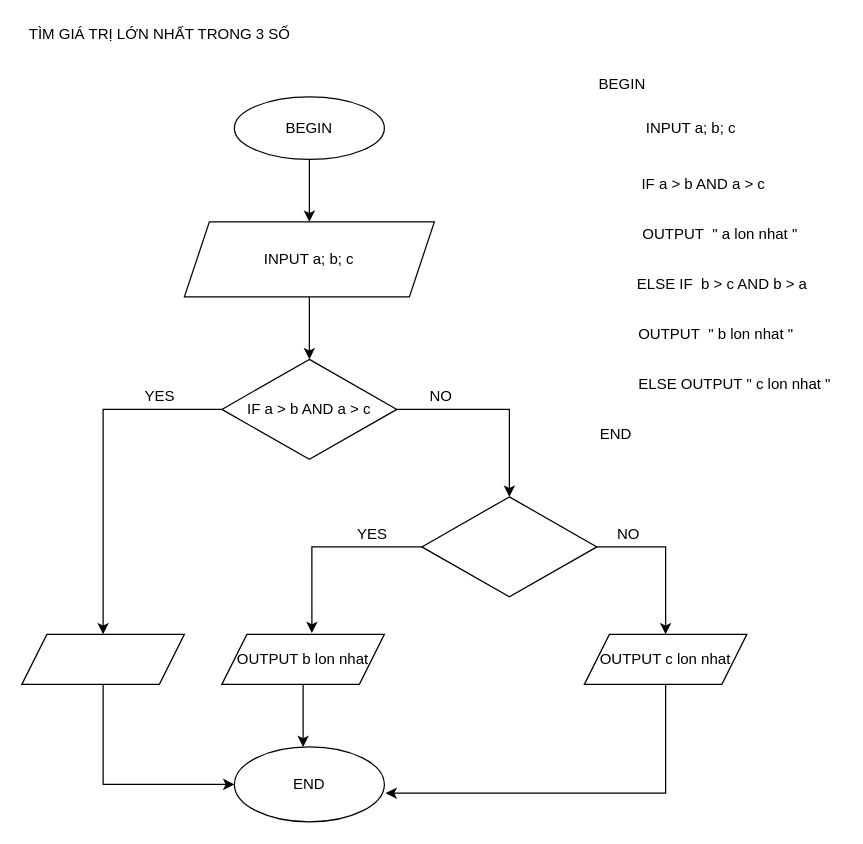
This 863x844 diagram has some shape labels left out. The centre of each missing label's shape, as x and y in pixels:
"IF b > c AND b > a" goes at (x=509, y=546).
"OUTPUT a lon nhat" goes at (x=102, y=658).
